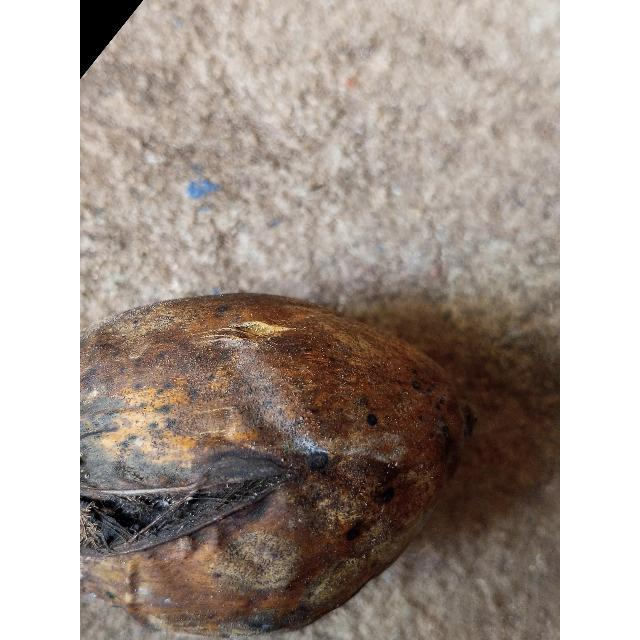damaged: (80, 292, 470, 640)
